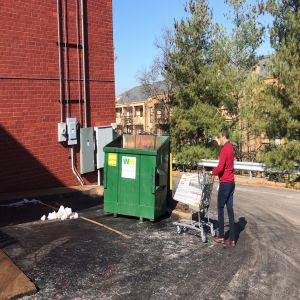Dumpster: (102, 132, 173, 231)
Person: (210, 126, 243, 253)
